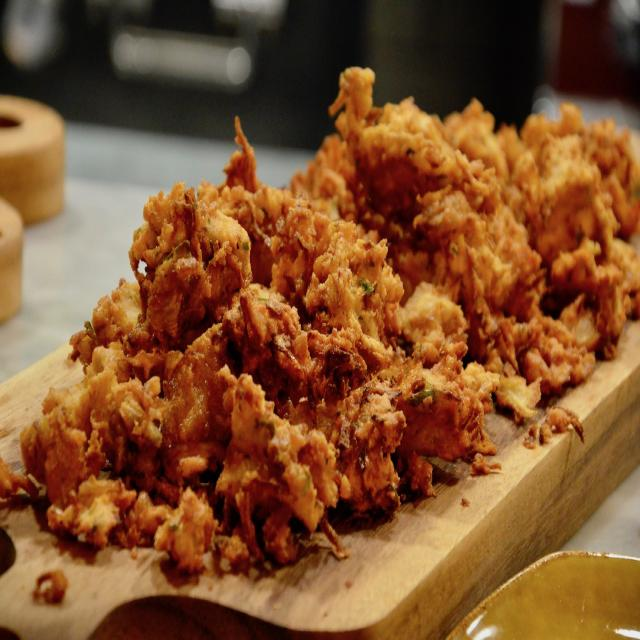Onion Pakora: (5, 26, 638, 583)
